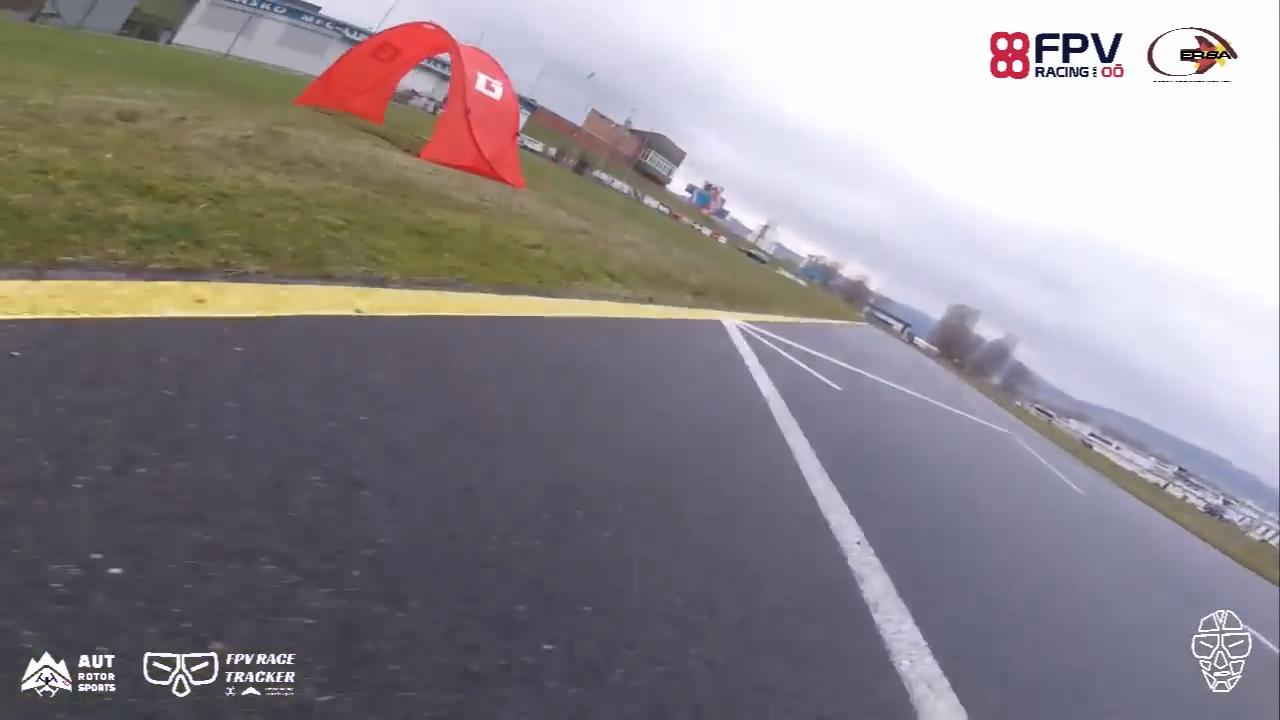gate: (294, 23, 529, 192)
